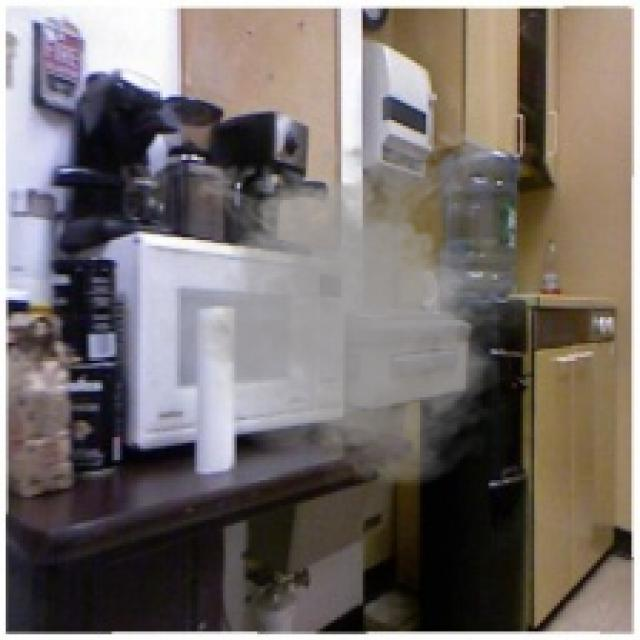smoke: (134, 120, 560, 491)
